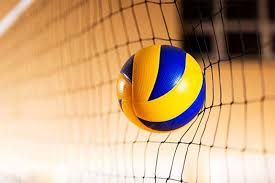ball: (115, 44, 206, 134)
